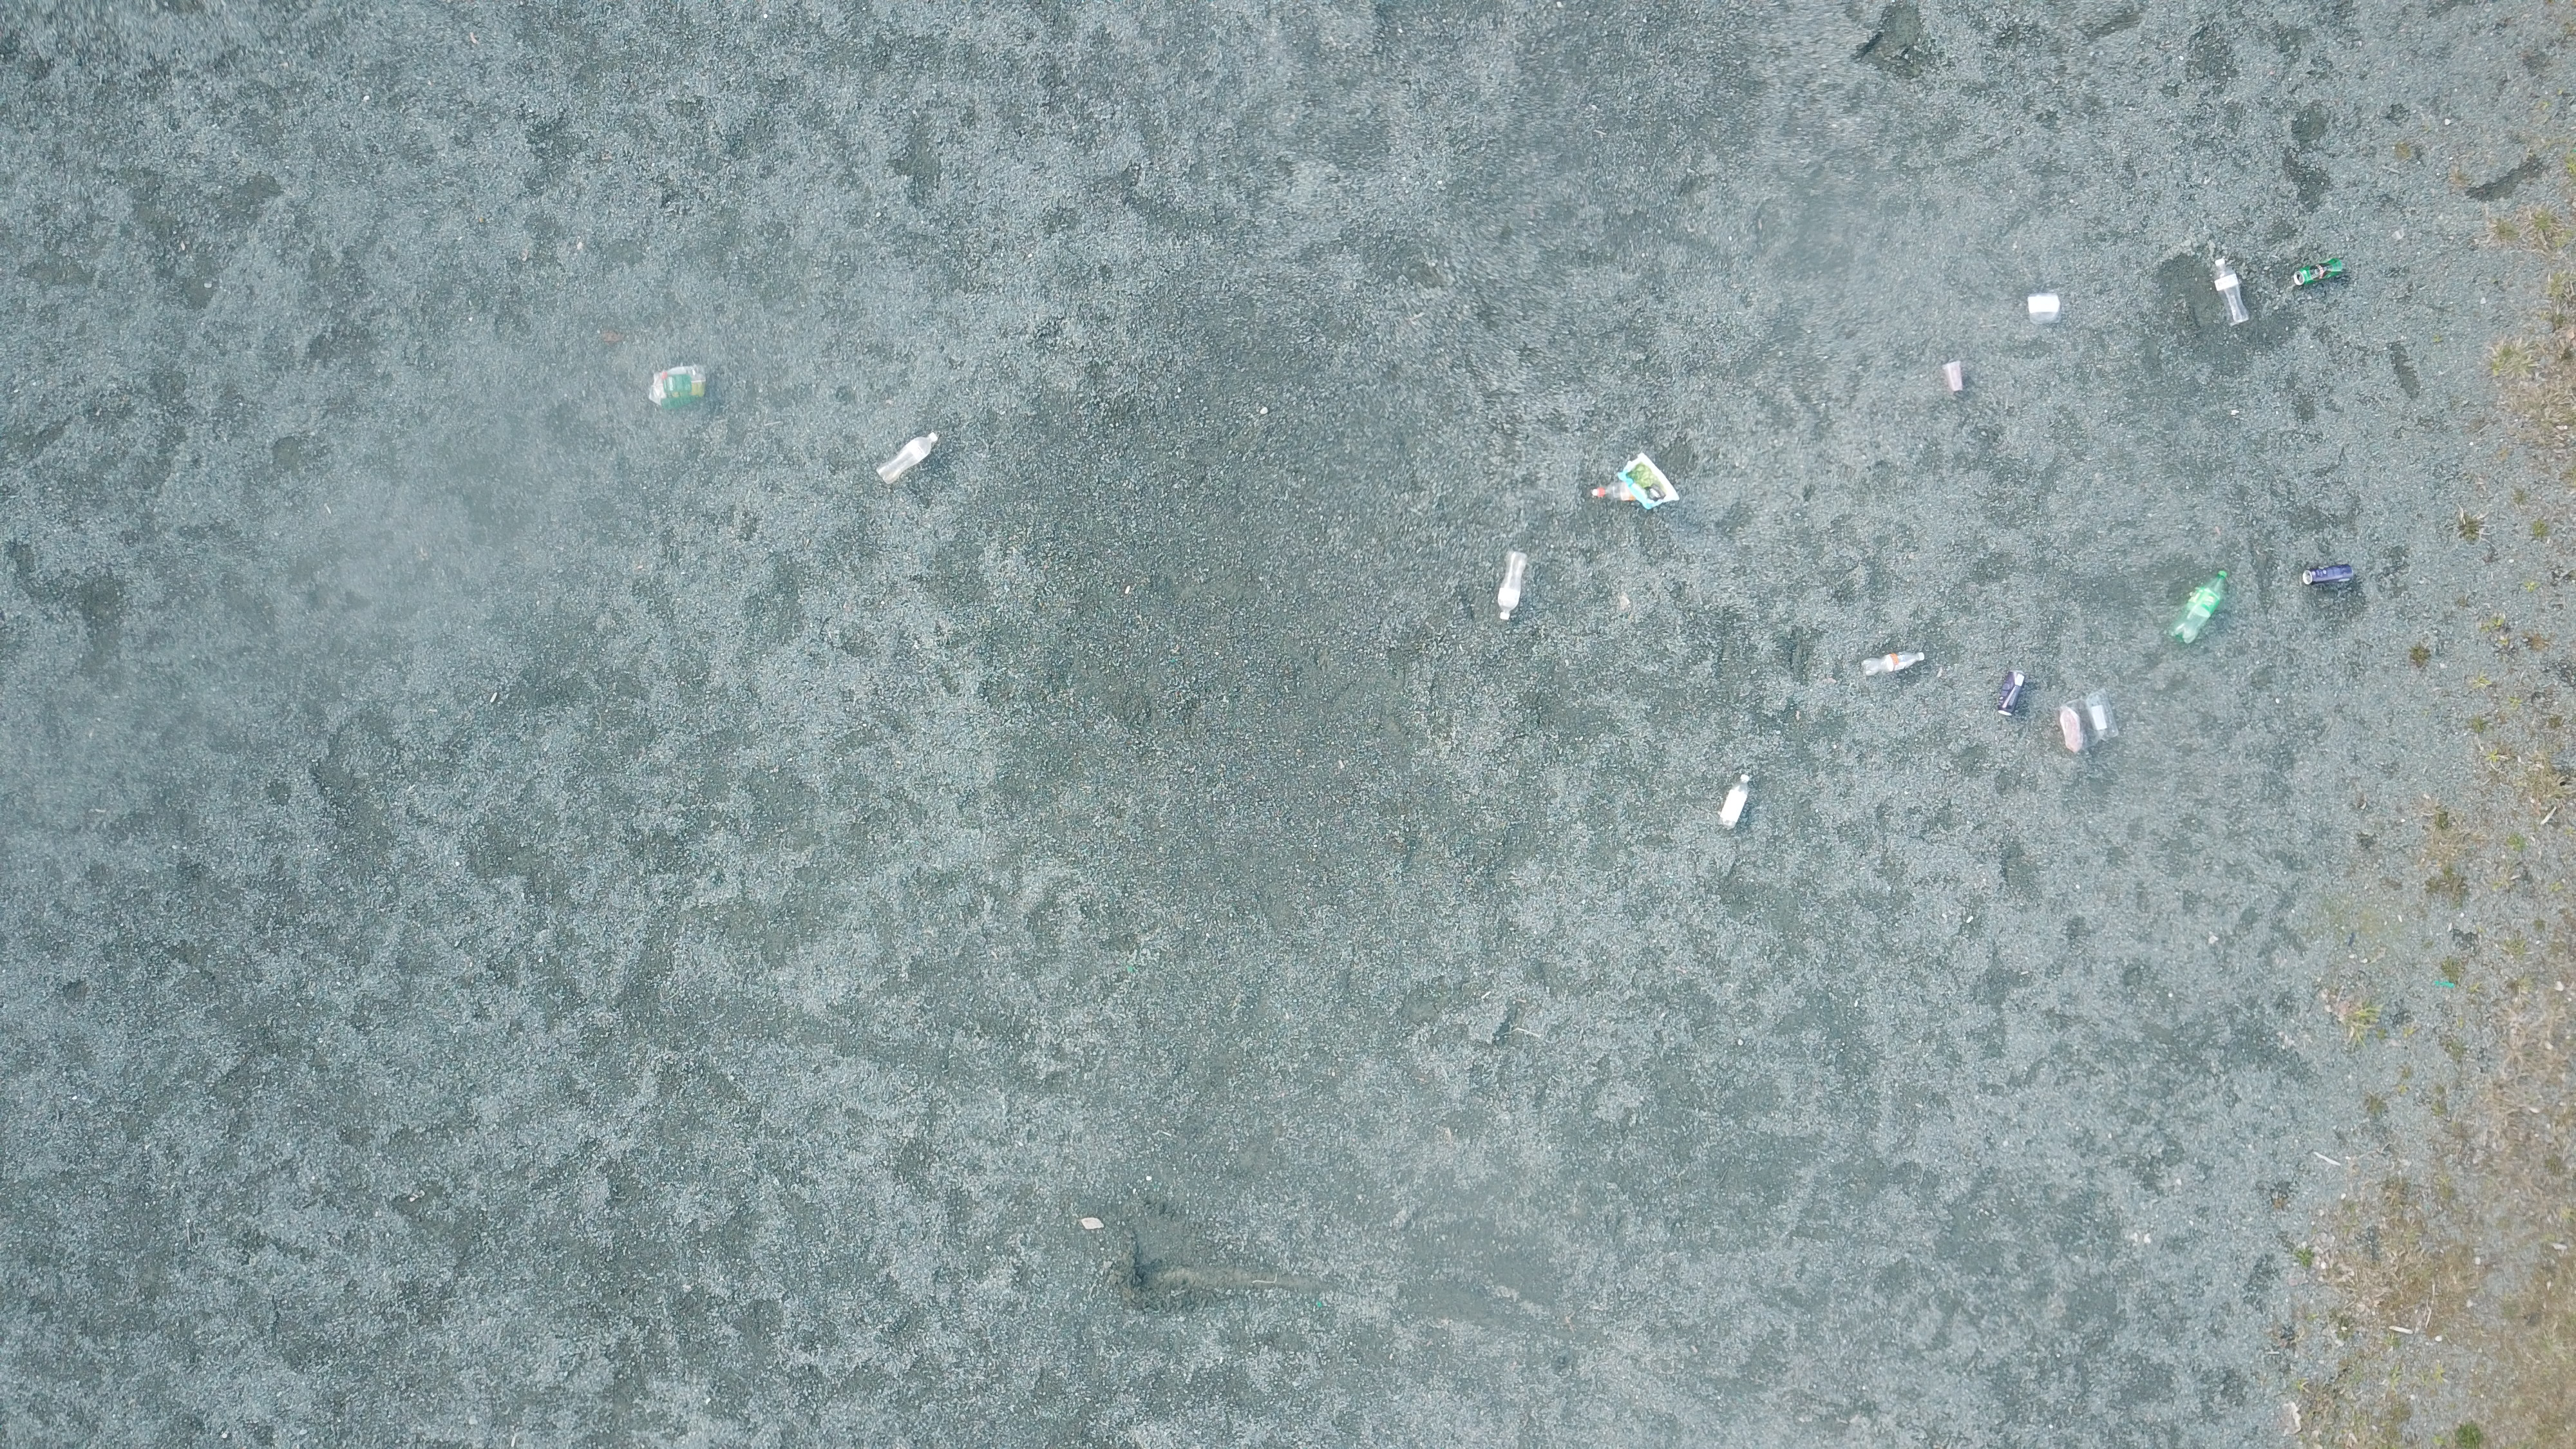Can: (2291, 257, 2346, 287), (1997, 671, 2028, 718), (2302, 563, 2355, 587)
Plastic: (2059, 688, 2121, 752), (1617, 453, 1681, 511), (648, 363, 708, 409), (2028, 292, 2065, 327), (1943, 361, 1966, 395)
PlasticBottle: (2171, 571, 2229, 644), (2212, 253, 2256, 329), (878, 432, 939, 485), (1495, 550, 1529, 621), (1714, 775, 1752, 830), (1863, 651, 1927, 678), (1587, 483, 1640, 502)
